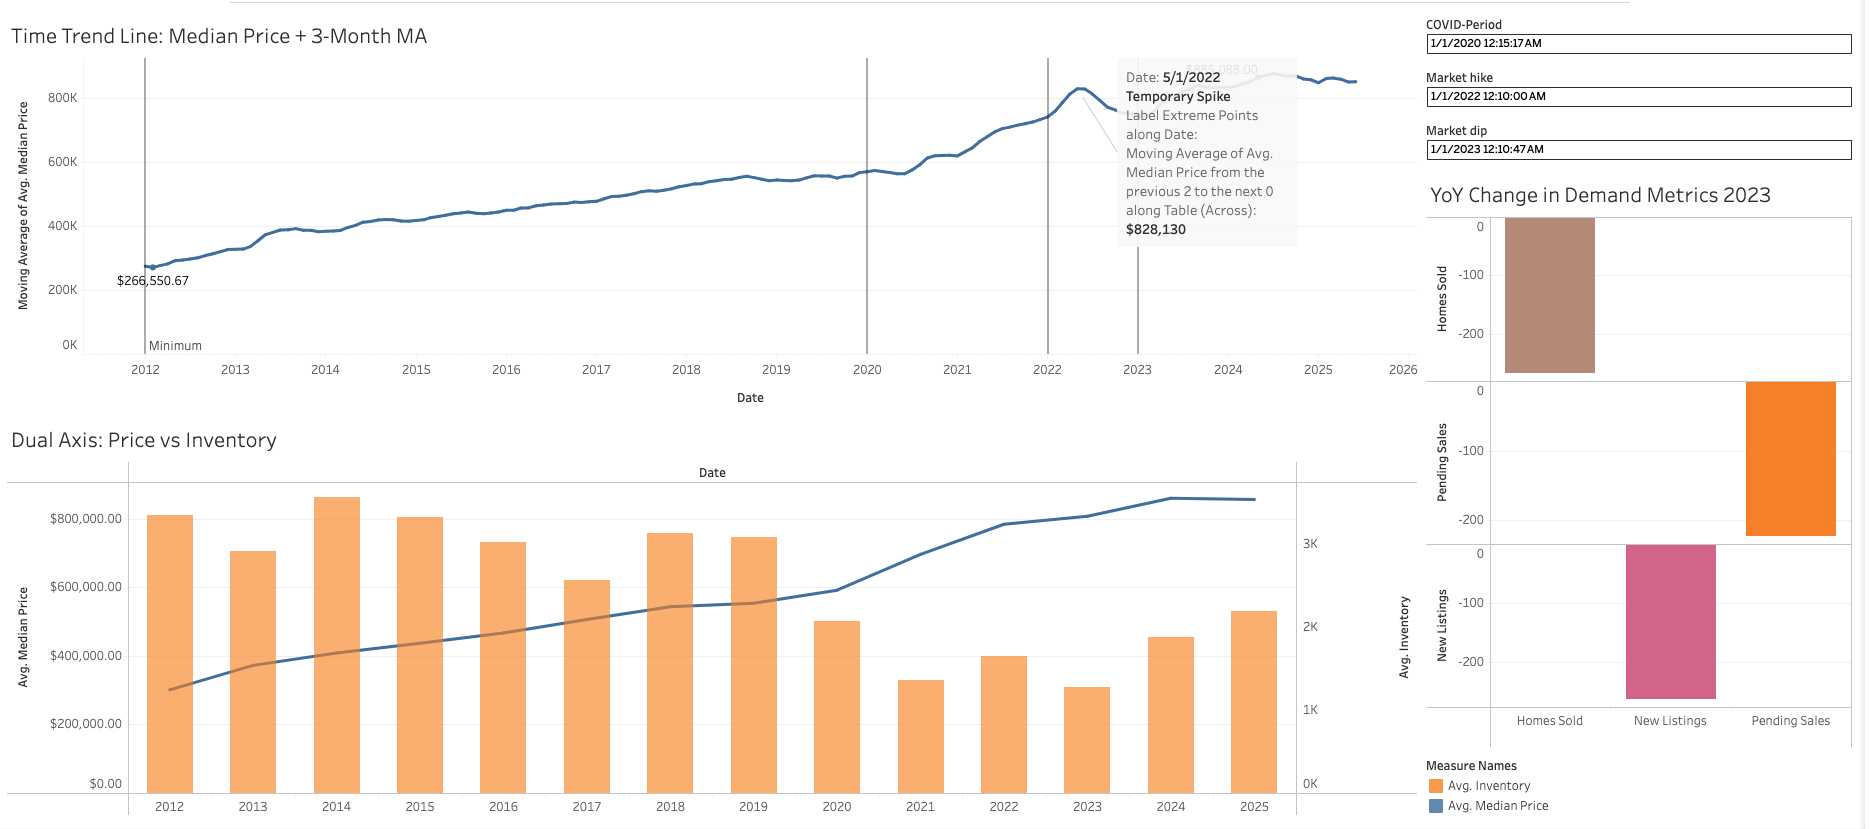

The page's visual inventory and layout, read from the dashboard file:
{"tool":"tableau","page":{"name":"Dashboard 1","canvas":[1000,1000],"units":"permille","ordinal":0},"visuals":[{"type":"worksheet","title":"Time Series","mark":"Automatic","rows":["median_price"],"cols":["date"],"box":[6.5,10.1,633.9,489.9]},{"type":"parameter","param":"[Parameters].[Parameter 4]","box":[640.4,10.1,353.1,65.3]},{"type":"parameter","param":"[Parameters].[Parameter 2]","box":[640.4,75.4,353.1,65.3]},{"type":"parameter","param":"[Parameters].[Parameter 3]","box":[640.4,140.7,353.1,65.3]},{"type":"worksheet","title":"YoY Change in Demand Metrics 2023","mark":"Automatic","rows":["HOMES_SOLD","PENDING_SALES","NEW_LISTINGS"],"box":[640.4,206,353.1,701]},{"type":"worksheet","title":"Dual Axis: Price vs Inventory","mark":"Automatic","rows":["median_price","inventory"],"cols":["date"],"box":[6.5,500,633.9,489.9]},{"type":"legend","title":"Dual Axis: Price vs Inventory","param":"[federated.0p4ktby1clfvun16kpalp02cn4qr].[:Measure Names]","box":[640.4,907,353.1,82.9]}]}

Visuals, with their boxes on the dashboard's canvas, which has no fixed pixel size, in thousandths of its width and height (x1, y1, x2, y2). These are canvas units, not pixel positions in the 1870x829 screenshot, which may show the page scaled, cropped or inside an application window:
"Time Series" worksheet: region(6, 10, 640, 500)
parameter: region(640, 10, 994, 75)
parameter: region(640, 75, 994, 141)
parameter: region(640, 141, 994, 206)
"YoY Change in Demand Metrics 2023" worksheet: region(640, 206, 994, 907)
"Dual Axis: Price vs Inventory" worksheet: region(6, 500, 640, 990)
"Dual Axis: Price vs Inventory" legend: region(640, 907, 994, 990)
